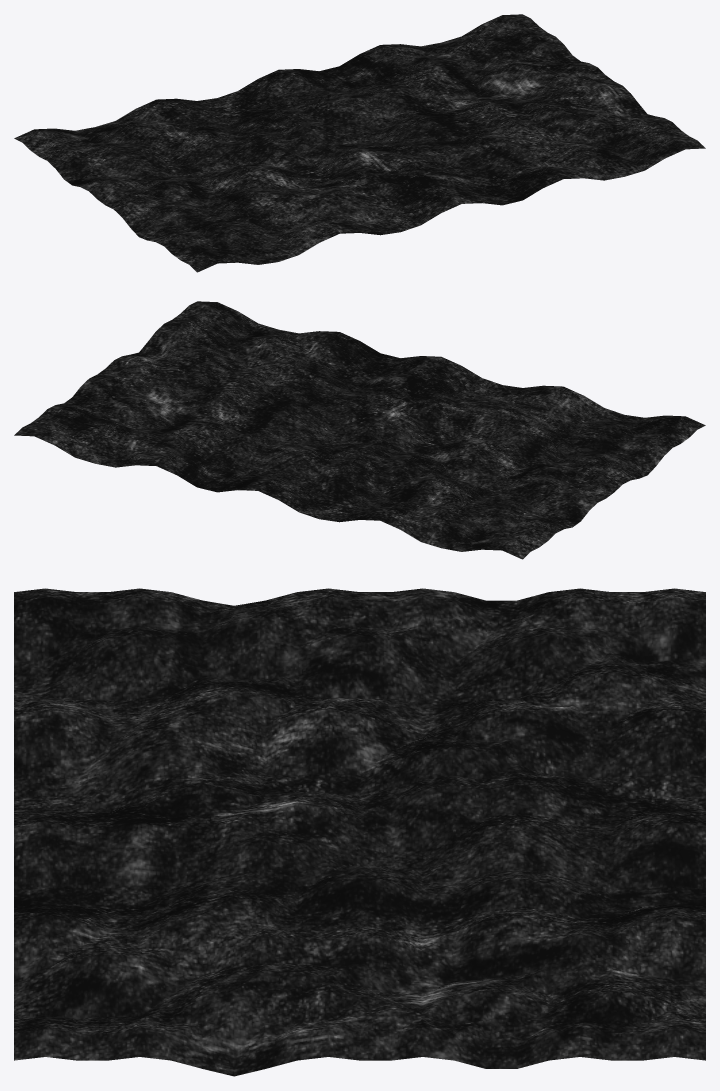
The model's file is SM_Farm_Field_00.fbx.
3 views of the same model, one above another, from view 1: azimuth 30°, elevation 25°; view 2: azimuth 150°, elevation 25°; view 3: azimuth 270°, elevation 25° (orthographic). The views are drawn at different scales.
Parts seen in each view (by area): view 1: SM_Farm_Field_00; view 2: SM_Farm_Field_00; view 3: SM_Farm_Field_00.
Boxes of the visible parts, <box> form: SM_Farm_Field_00: <box>14,14,705,272</box>; SM_Farm_Field_00: <box>14,301,705,559</box>; SM_Farm_Field_00: <box>14,588,705,1076</box>.
Size of the model in its own units: 613 by 383 by 18.56.
Materials: 1 (1 with a texture image).
